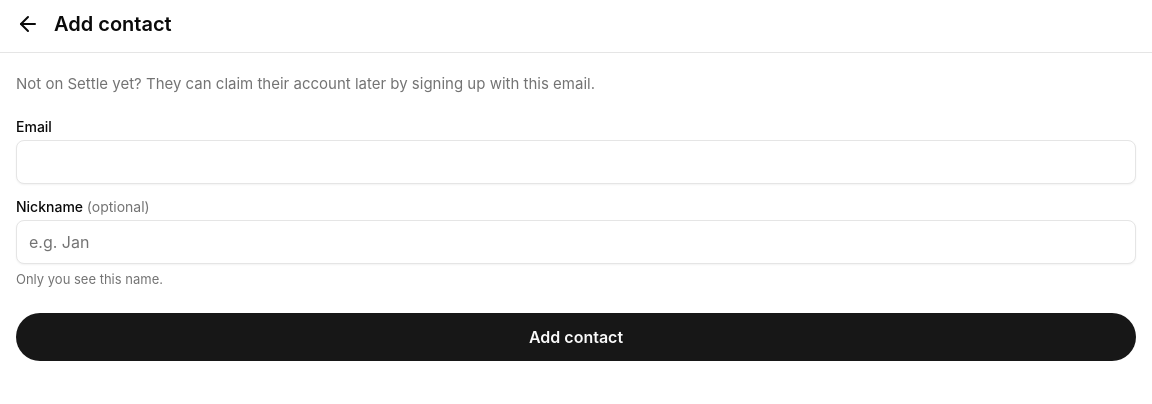
Test: AddContactPage › validates the email before submitting
Type "jan.nowak@" into the field labelled "Email". click: (576, 162)
box: top-left (16, 140), bottom-right (1136, 184)
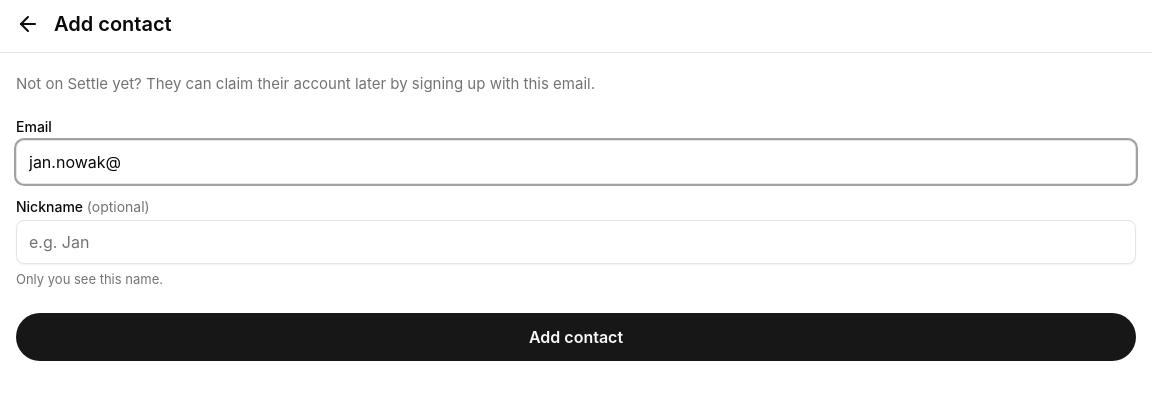
Click the button "Add contact". click: (576, 337)
box: top-left (16, 313), bottom-right (1136, 361)
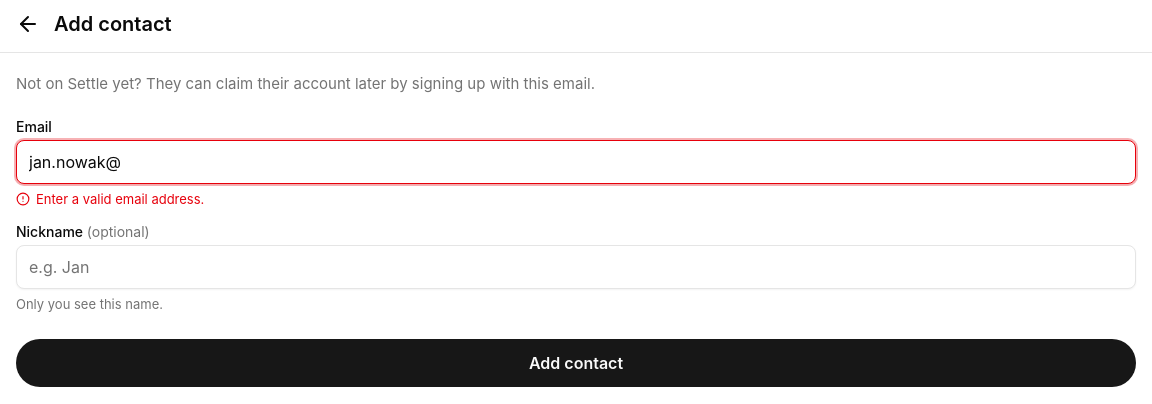
Expected: the text "Enter a valid email address." is shown, top-left (16, 190), bottom-right (204, 206)
